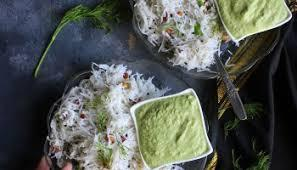Organic: (1, 0, 297, 170)
